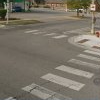crosswalk: (3, 49, 99, 100), (22, 28, 68, 38)
